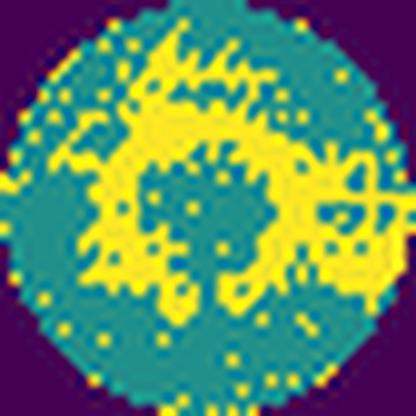Donut: (70, 23, 415, 333)
